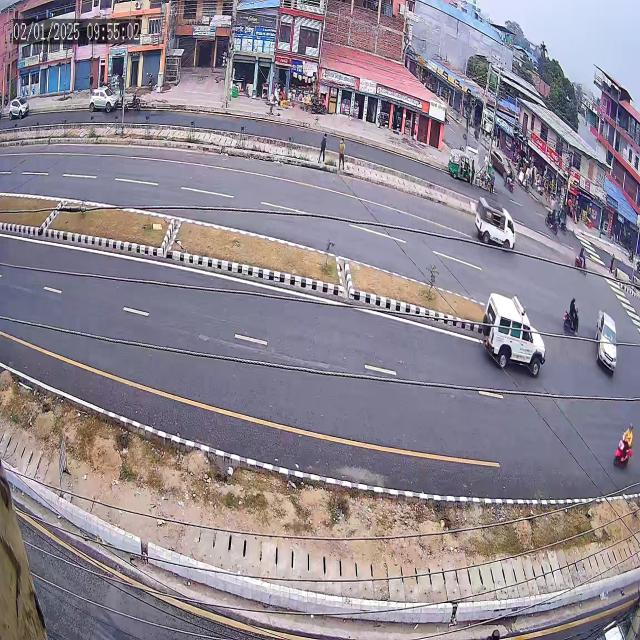car: (470, 276, 559, 388), (591, 297, 622, 383)
motorcycle: (610, 410, 638, 474), (561, 284, 584, 349), (574, 235, 591, 282)
van: (466, 183, 529, 266)
